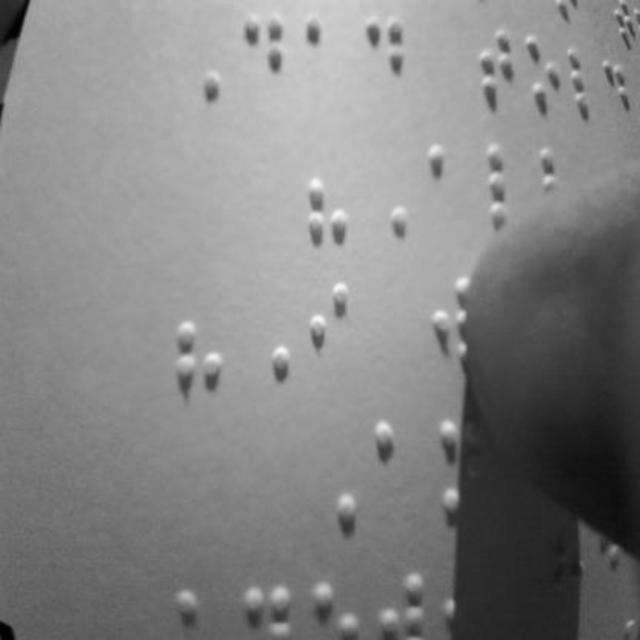braiile: (304, 175, 360, 279), (176, 320, 232, 424), (364, 12, 414, 112), (240, 5, 288, 109), (300, 5, 352, 101), (475, 19, 521, 112), (525, 29, 565, 121), (568, 31, 602, 121)
